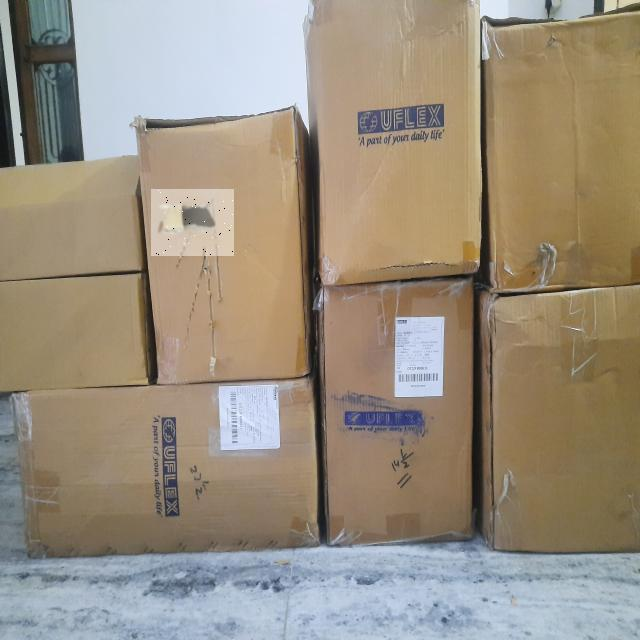leakage: (151, 189, 234, 256)
